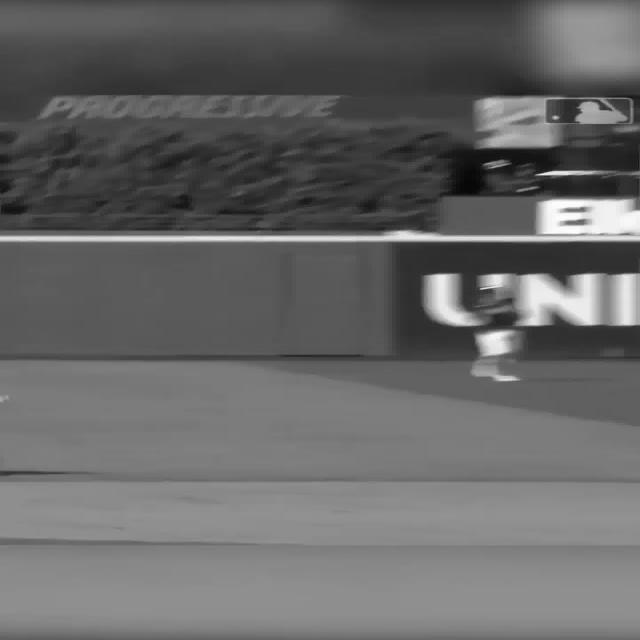shoe: (469, 353, 520, 382)
